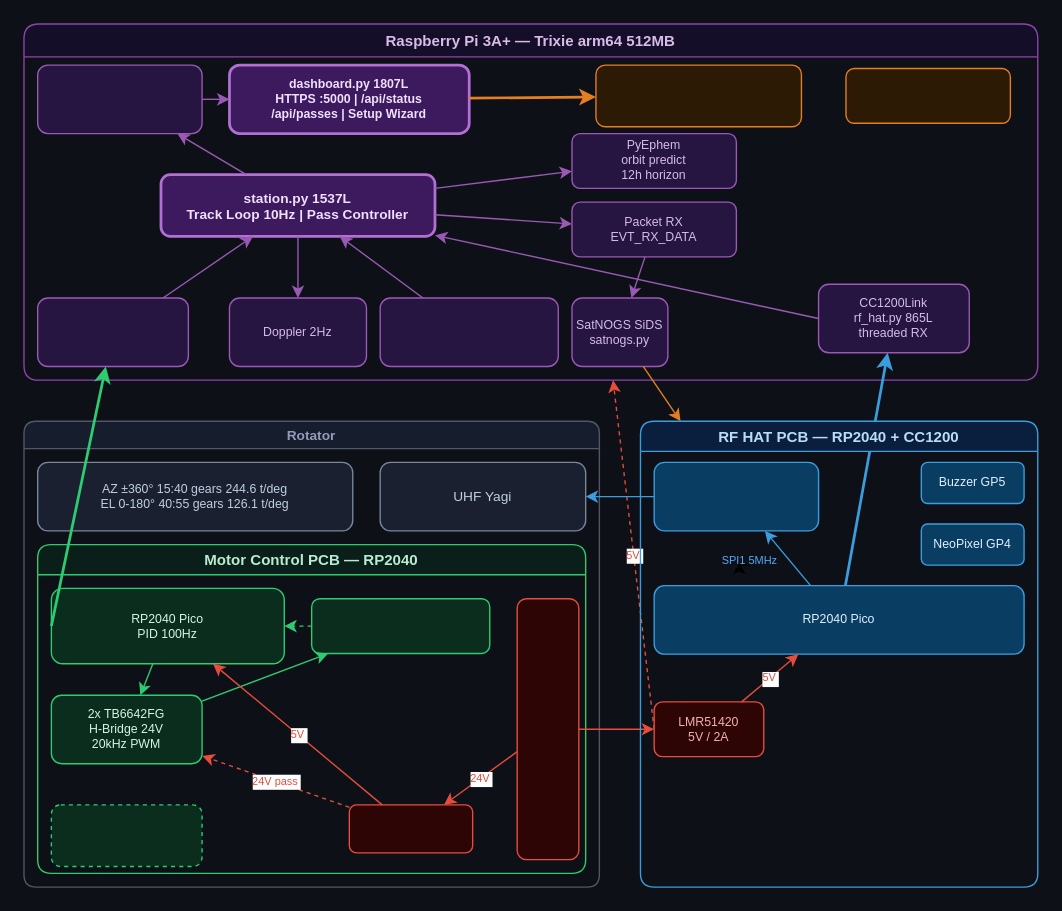
Some shapes in this 1062 by 911 pixel diagram are drawn without their labels. The centre of each missing label's shape, as x and y in pixels:
24V LiPo XT30: point (547, 728)
2x FAPG36-555-EN 24V 16RPM 516:1: point (400, 625)
ADXL345 IMU EL homing SPI0 (external breakout): point (126, 835)
CC1200 UHF 432 MHz: point (736, 496)
db.satnogs.org Station 4712: point (927, 95)
Phone/Laptop Browser GPS + Live Dashboard: point (698, 95)
rotctld: point (112, 331)
sat_profiles.json 10 sats + SatNOGS DB 2656 transmitters: point (468, 331)
station_status.json 1Hz write: point (119, 99)
TPS560430 24V→5V / 2A: point (410, 828)
